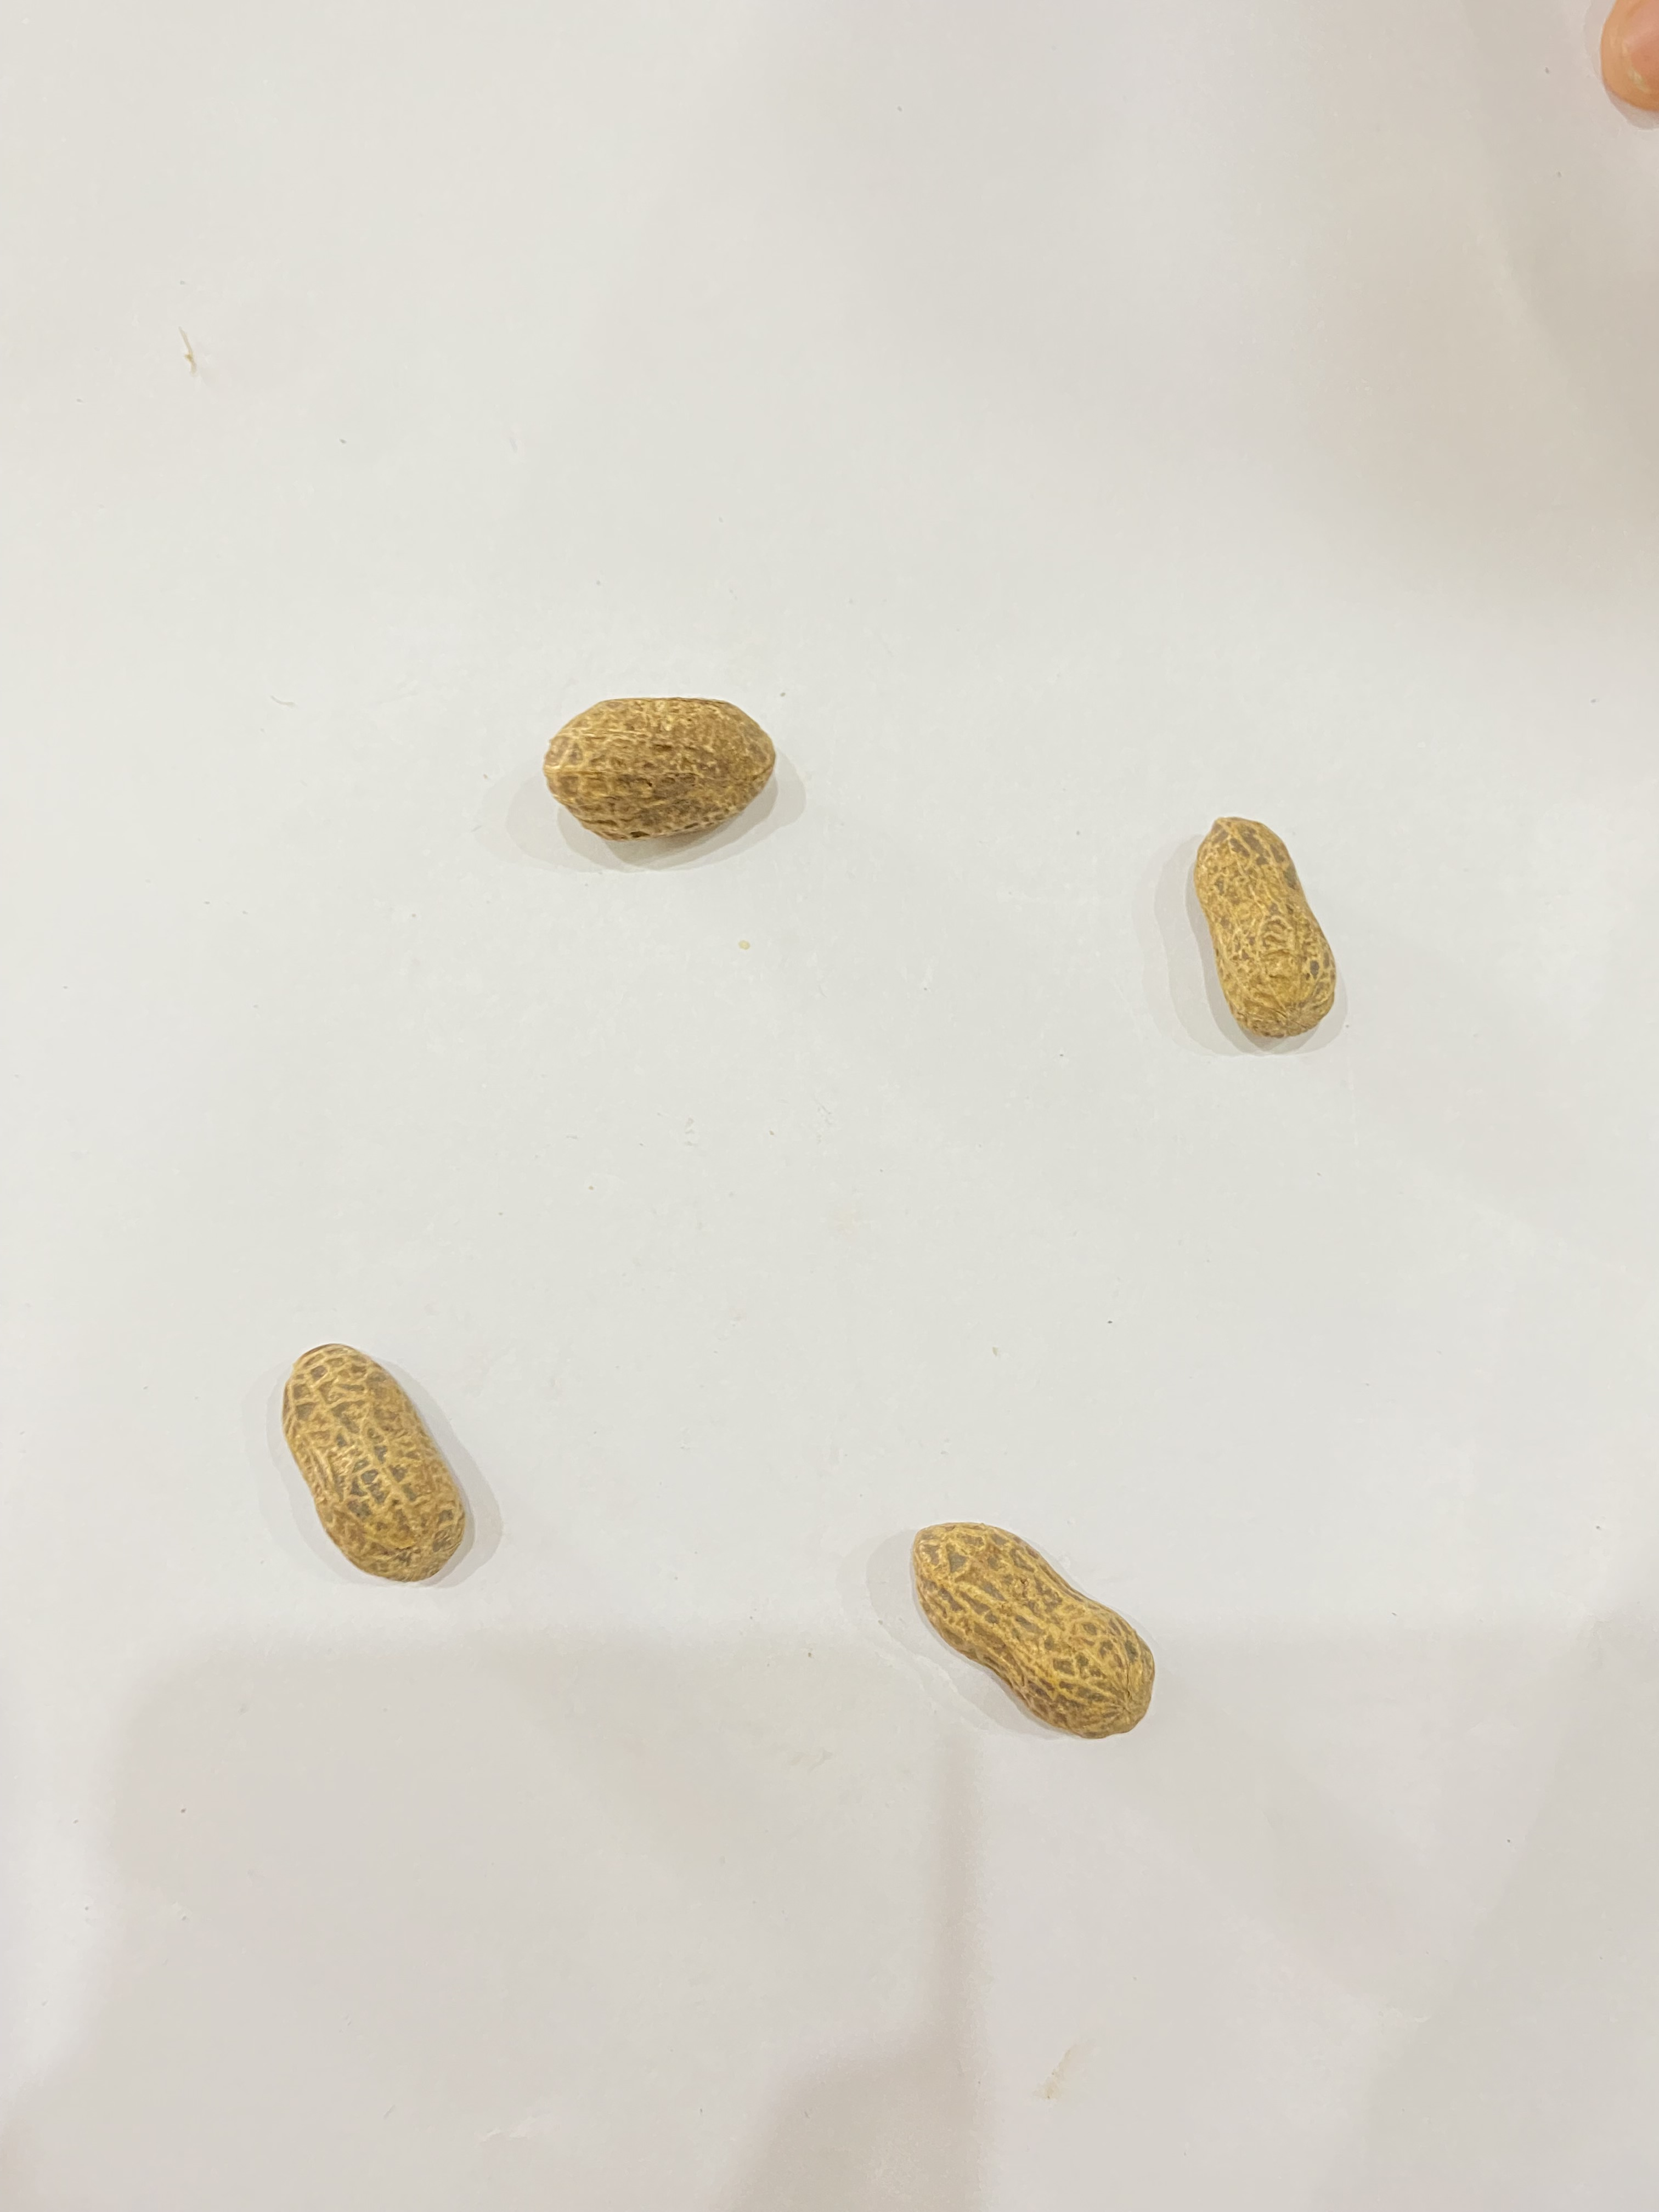kacang1: (498, 646, 852, 876), (234, 1339, 477, 1588)
kacang2: (903, 1508, 1180, 1742), (1187, 805, 1338, 1042)
